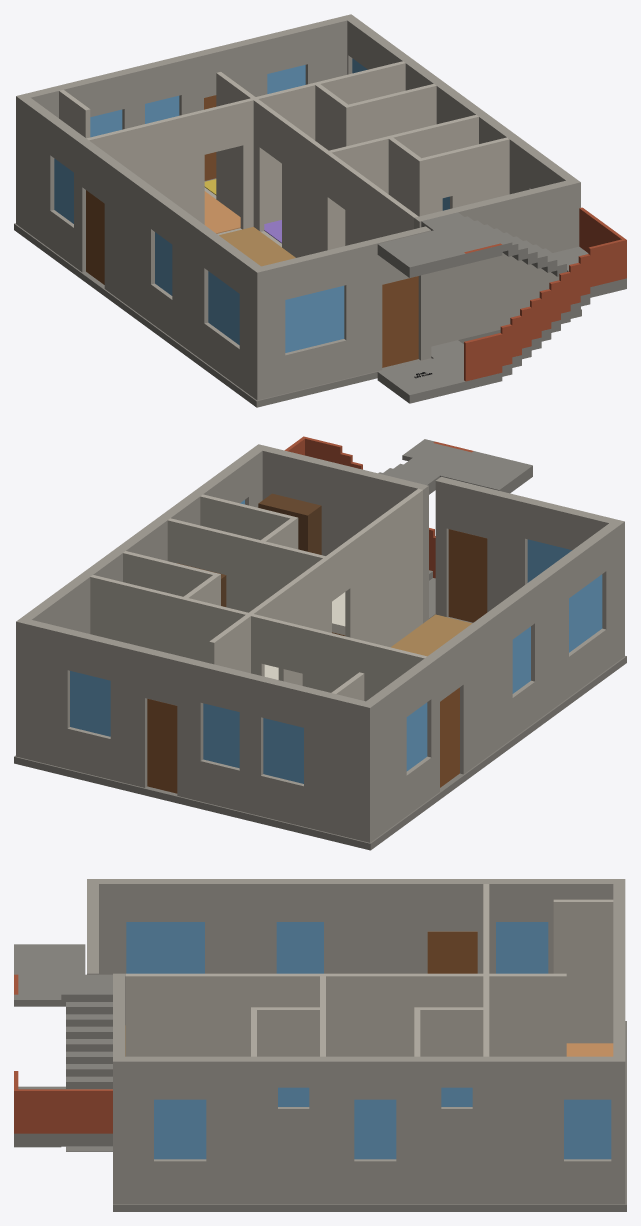
The model's file is 06_first_floor.glb.
3 renders of one model, top to bottom at view 1: azimuth 30°, elevation 25°; view 2: azimuth 150°, elevation 25°; view 3: azimuth 270°, elevation 25°, orthographic. The views are drawn at different scales.
Visible parts, largest first — view 1: FF_Wall_Exterior, FF_Wall_Interior, FF_Stair_Flight, FF_Glass, FF_Stair_Guard, FF_Door_Wood, FF_Slab_RCC, FF_Floor_Hall, FF_Floor_Dining; view 2: FF_Wall_Exterior, FF_Wall_Interior, FF_Glass, FF_Door_Wood, FF_Slab_RCC, FF_Stair_Flight, FF_Furn_Wood, FF_Floor_Hall, FF_Stair_Guard, FF_Furn_Soft; view 3: FF_Wall_Exterior, FF_Wall_Interior, FF_Glass, FF_Stair_Flight, FF_Stair_Guard, FF_Slab_RCC, FF_Door_Wood, FF_Floor_Dining.
Part boxes in pixels (left/top/right/bottom): FF_Wall_Exterior: left=16, top=14, right=580, bottom=400; FF_Wall_Interior: left=59, top=61, right=509, bottom=257; FF_Stair_Flight: left=377, top=212, right=626, bottom=403; FF_Glass: left=54, top=58, right=367, bottom=352; FF_Stair_Guard: left=464, top=207, right=626, bottom=381; FF_Door_Wood: left=86, top=95, right=418, bottom=367; FF_Slab_RCC: left=14, top=178, right=581, bottom=407; FF_Floor_Hall: left=219, top=227, right=295, bottom=266; FF_Floor_Dining: left=204, top=191, right=240, bottom=233; FF_Wall_Exterior: left=16, top=444, right=624, bottom=842; FF_Wall_Interior: left=90, top=488, right=426, bottom=701; FF_Glass: left=70, top=500, right=602, bottom=783; FF_Door_Wood: left=147, top=529, right=487, bottom=793; FF_Slab_RCC: left=14, top=617, right=626, bottom=850; FF_Stair_Flight: left=378, top=439, right=532, bottom=618; FF_Furn_Wood: left=177, top=493, right=345, bottom=635; FF_Floor_Hall: left=391, top=614, right=471, bottom=656; FF_Stair_Guard: left=284, top=436, right=473, bottom=578; FF_Furn_Soft: left=264, top=592, right=345, bottom=679; FF_Wall_Exterior: left=87, top=879, right=625, bottom=1204; FF_Wall_Interior: left=125, top=884, right=613, bottom=1056; FF_Glass: left=126, top=922, right=611, bottom=1159; FF_Stair_Flight: left=14, top=944, right=112, bottom=1151; FF_Stair_Guard: left=14, top=974, right=112, bottom=1133; FF_Slab_RCC: left=113, top=1021, right=626, bottom=1211; FF_Door_Wood: left=427, top=931, right=477, bottom=973; FF_Floor_Dining: left=566, top=1043, right=613, bottom=1056.
Bounding box in the file's own units: 8.31 × 3.2 × 11.69.
